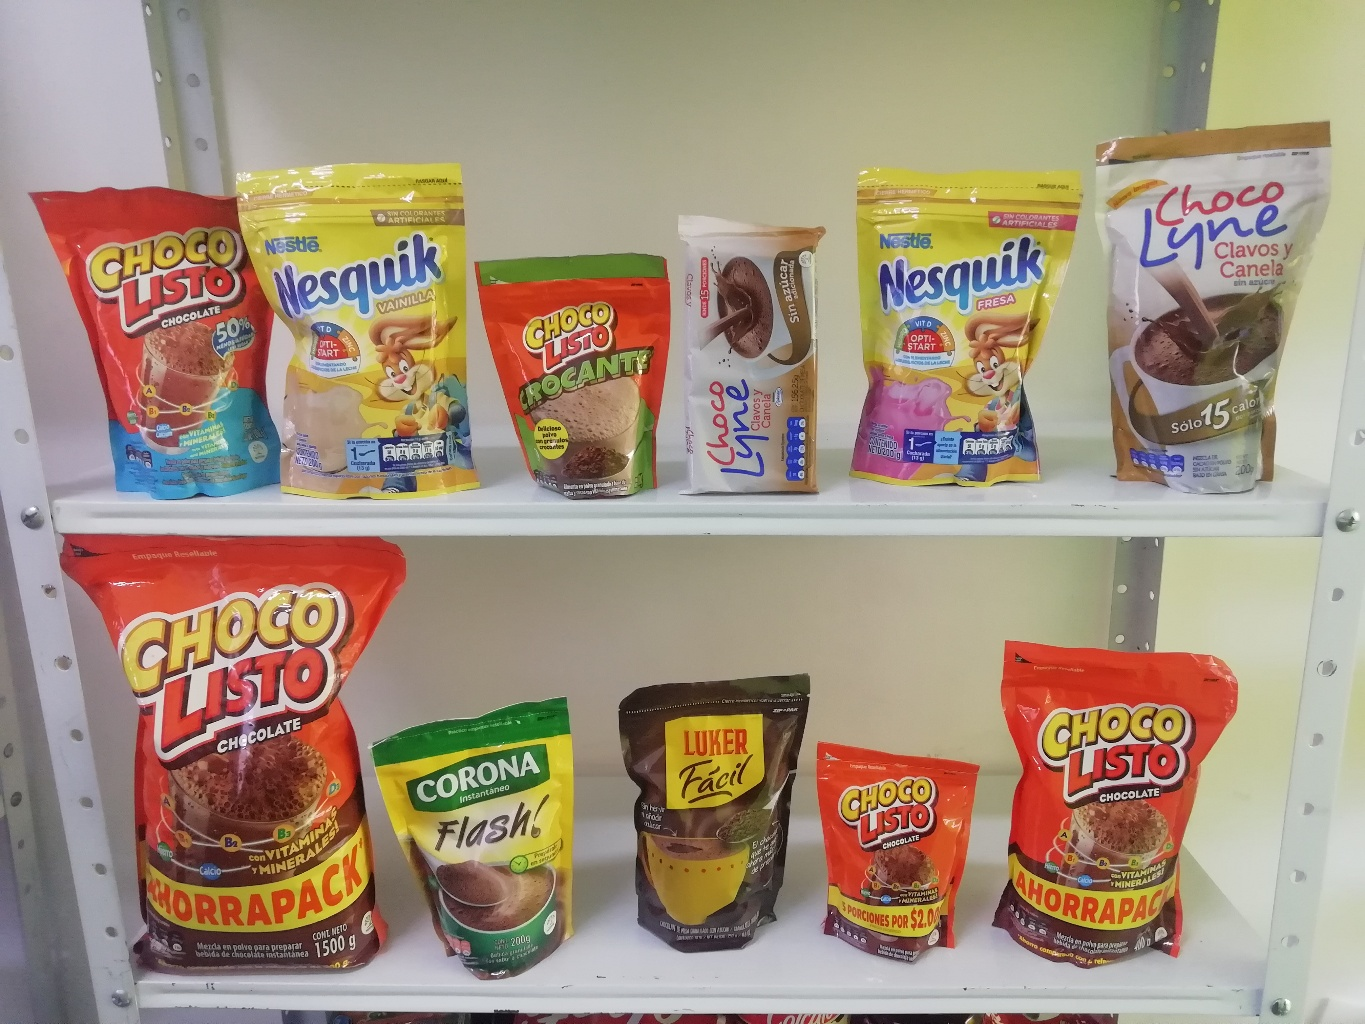COL0170102DYP10000: (480, 236, 676, 502)
COL0170103DYP1,500: (49, 520, 406, 975)
COL0170103DYP10000: (806, 731, 985, 961)
COL0170103DYP40000: (983, 627, 1241, 967)
COL0170104DYP20000: (29, 166, 283, 495)
COL0170305DYP20000: (837, 158, 1083, 496)
COL0170306DYP20000: (227, 155, 500, 507)
